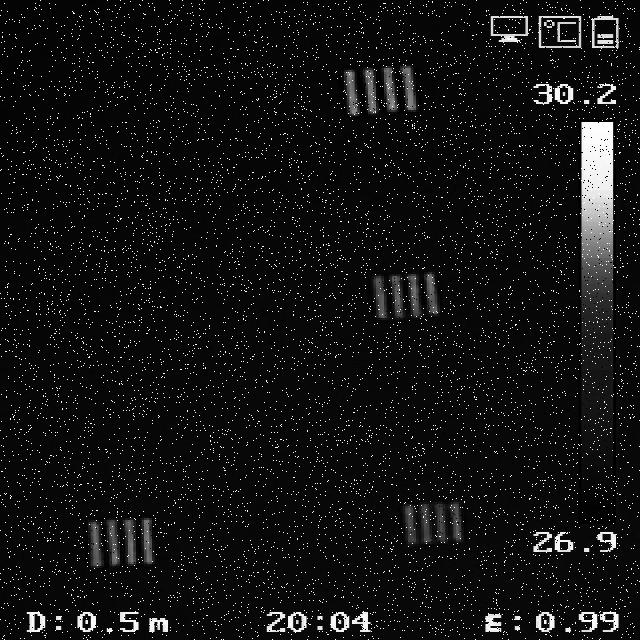Distinguishable 4-bar target: (341, 65, 420, 118), (85, 520, 156, 568), (371, 274, 440, 320), (403, 501, 468, 546)
